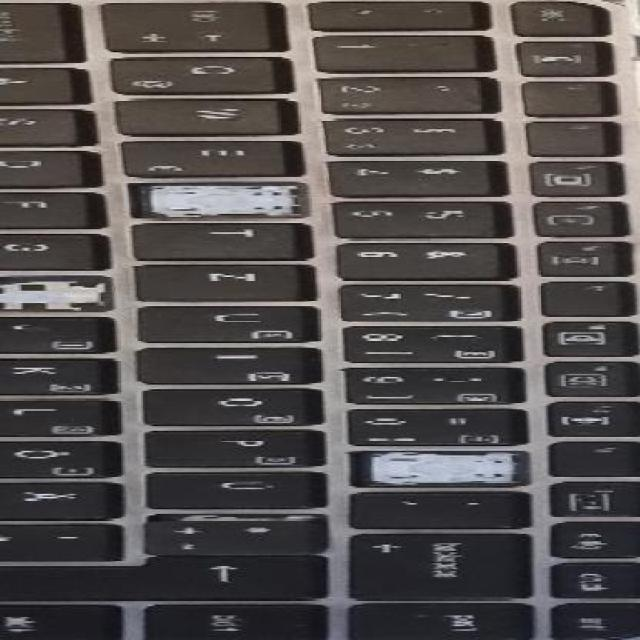Keyboard problems: (352, 451, 528, 486), (140, 185, 305, 217), (0, 275, 111, 309)
